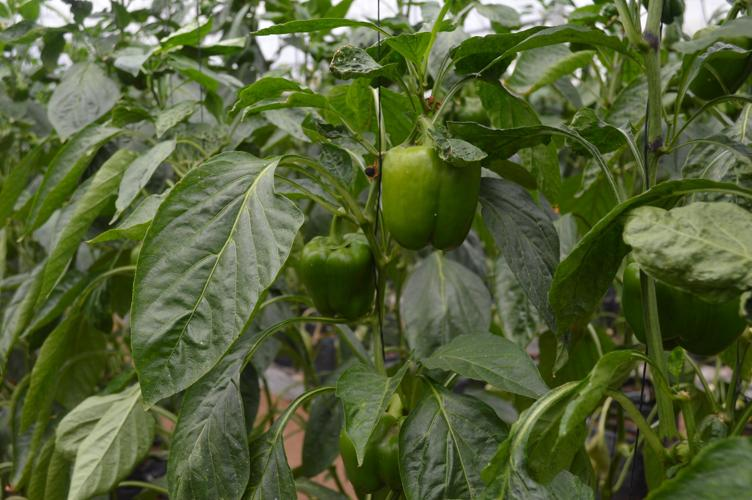BellPepper: (616, 263, 743, 357), (380, 147, 479, 247), (332, 410, 404, 491), (301, 237, 370, 318)
